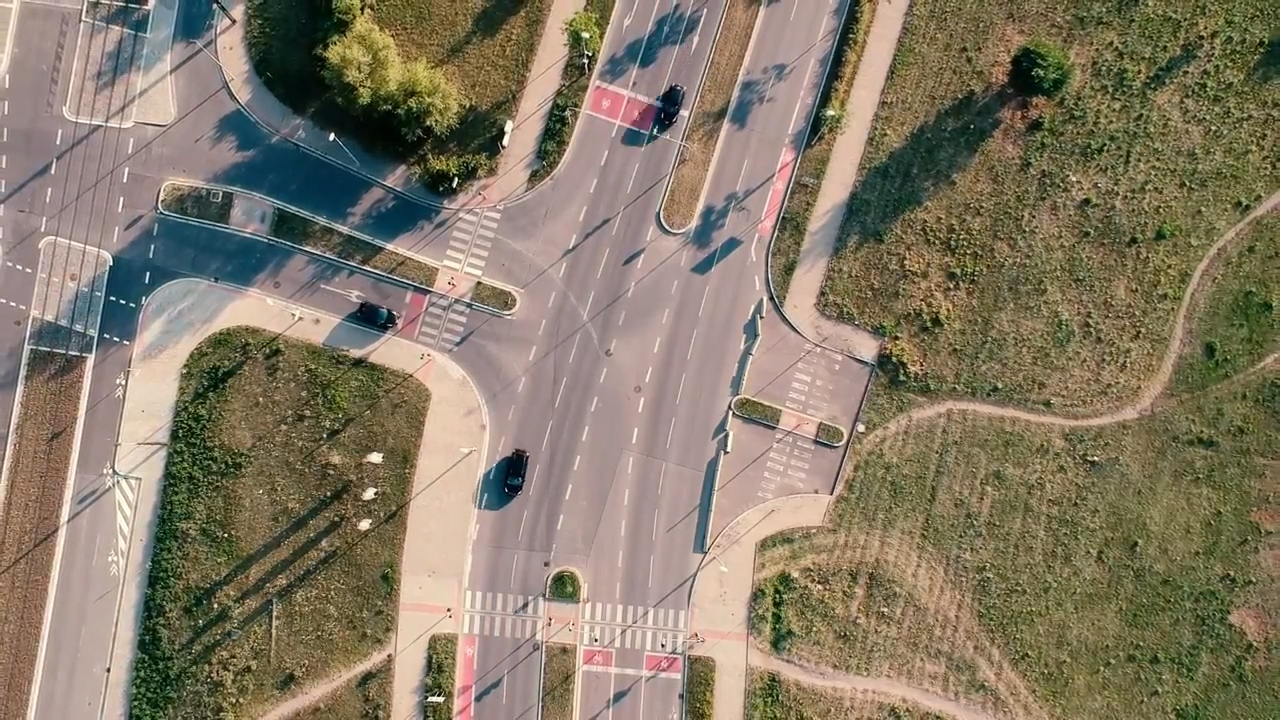car: (354, 298, 401, 330), (501, 448, 530, 498), (653, 82, 685, 127)
